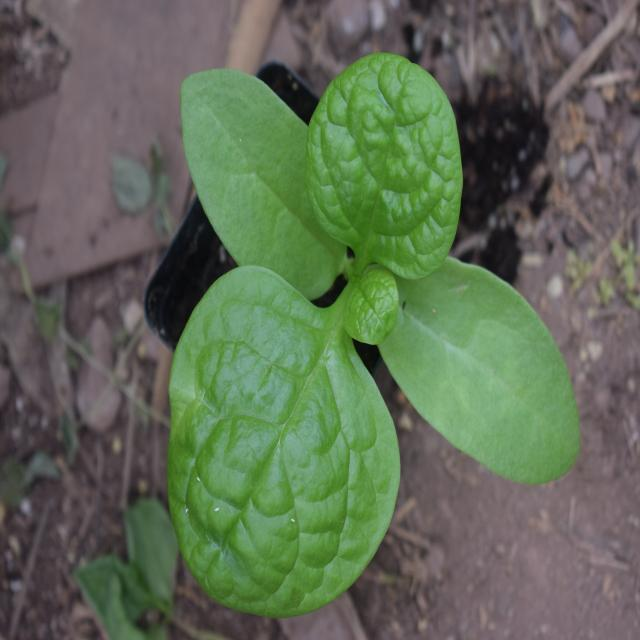Ceylon spinach: (136, 74, 582, 586)
